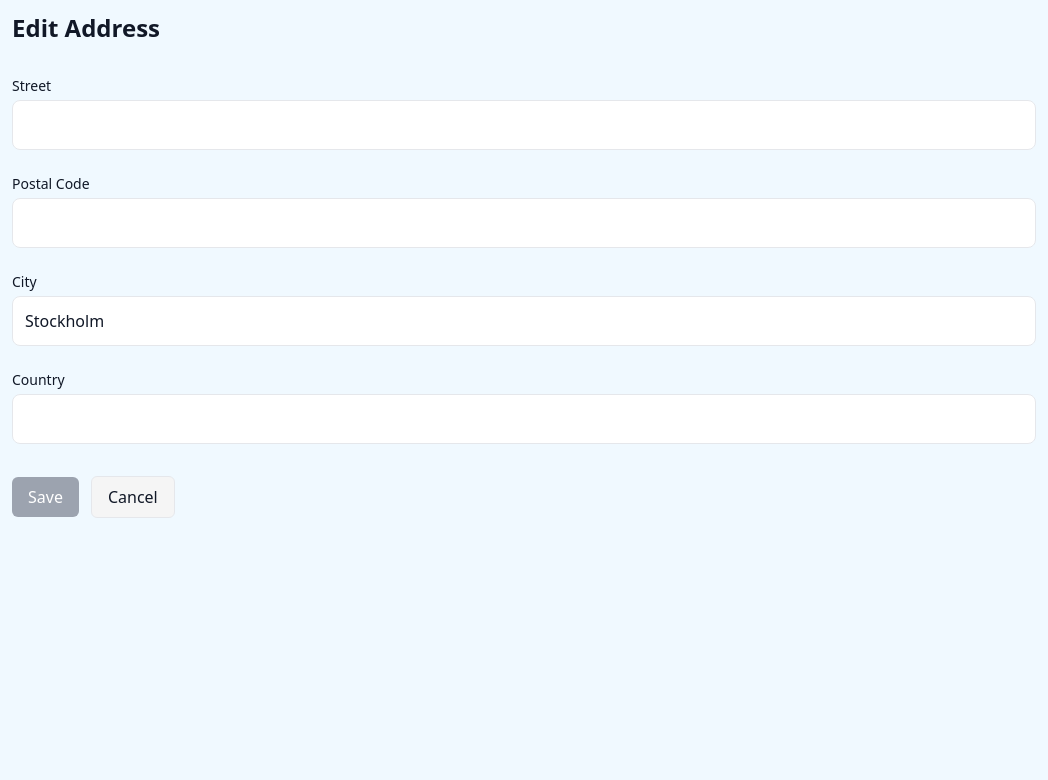
Test: EditAddressForm › validates only changed fields
# Change only city → should validate only city
Clear the field labelled "City": coordinates (524, 321) [12, 296, 1036, 346]
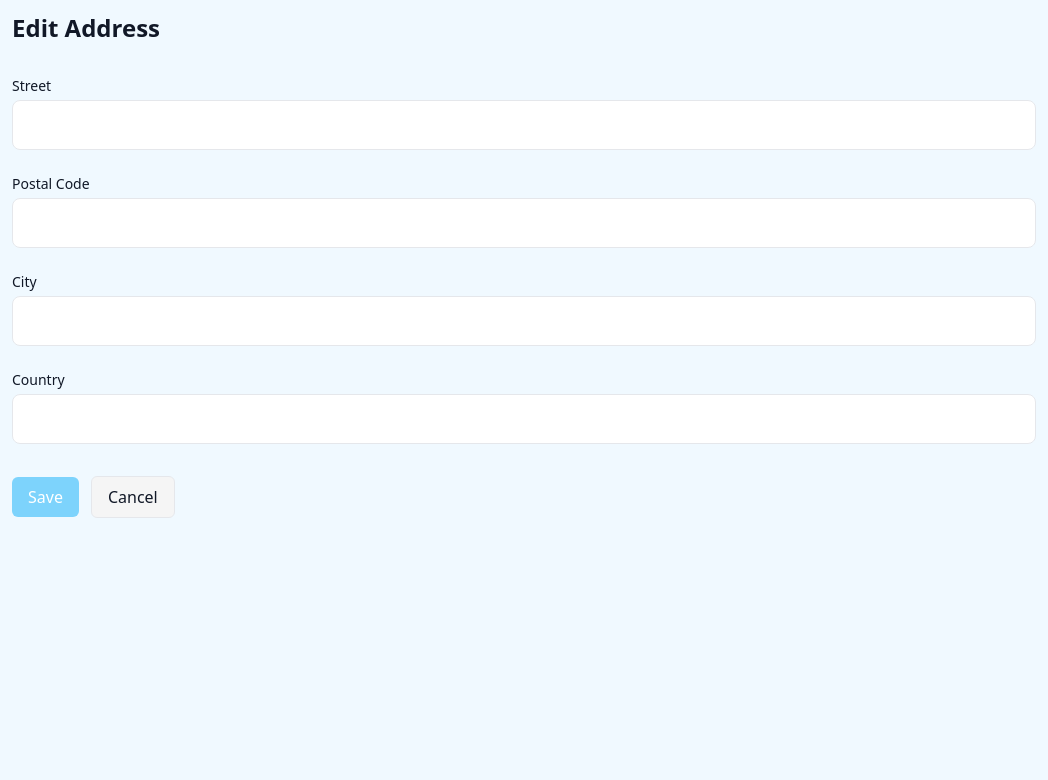
Click the button "Save": coordinates (45, 497) [12, 477, 79, 517]
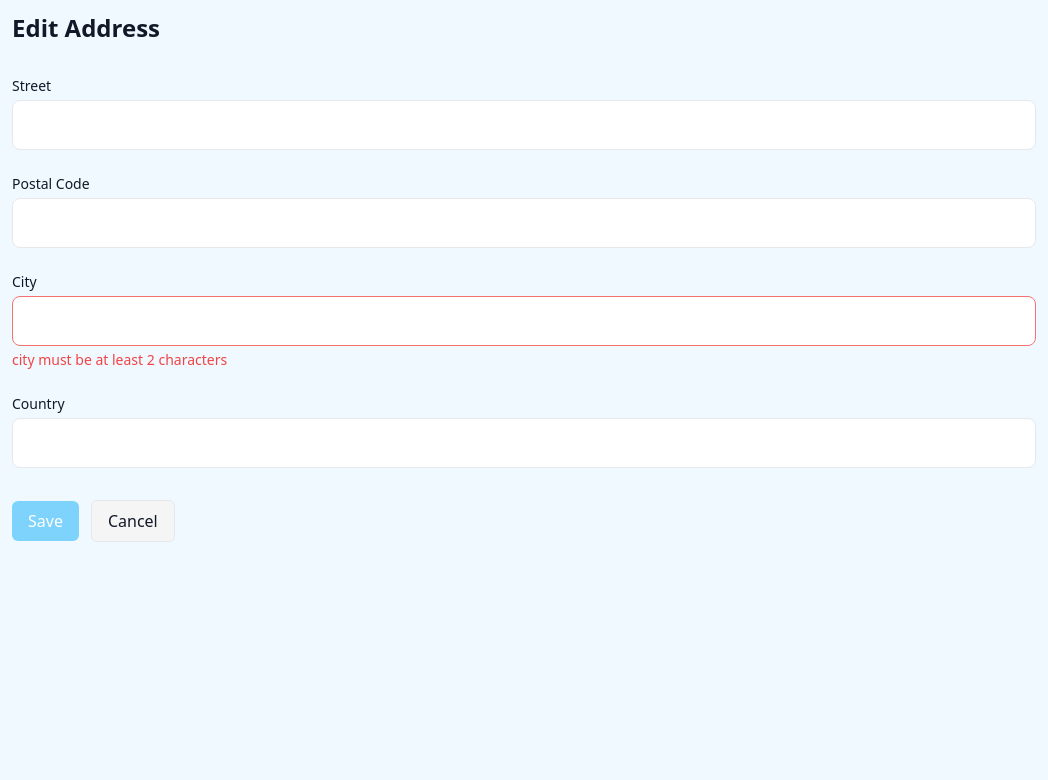
Expected: the text "city must be at least 2 characters" is shown, [12, 350, 227, 369]
